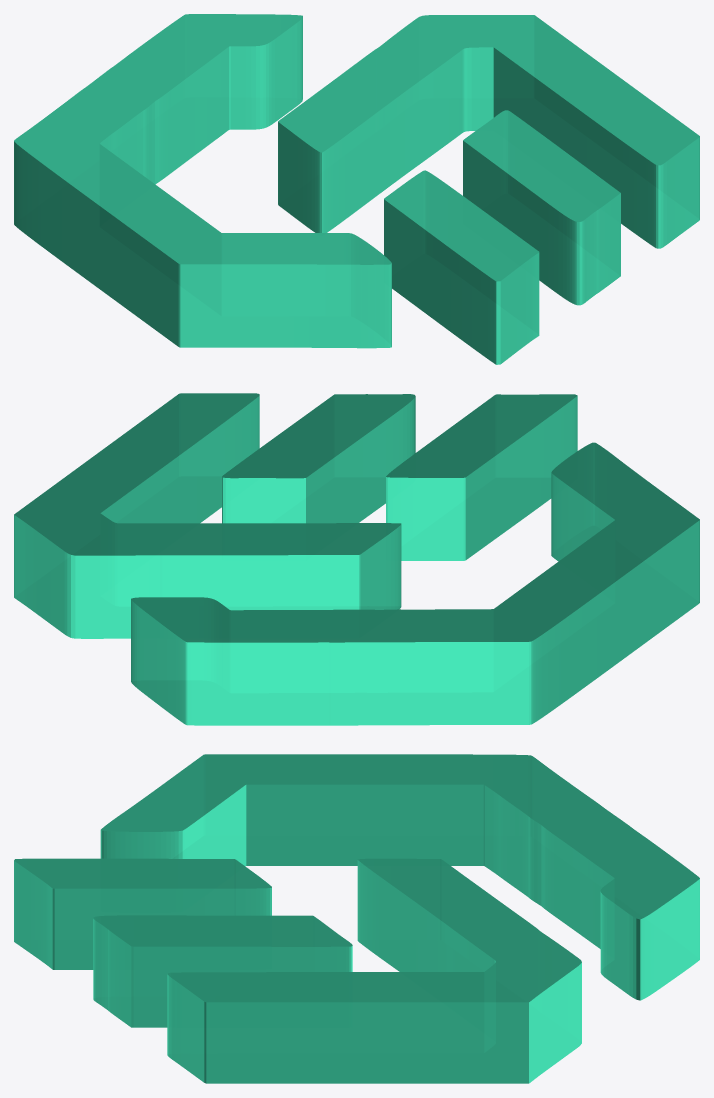
Rendered from optrizo-3d-model.glb.
3 views of the same model, one above another, from view 1: azimuth 30°, elevation 25°; view 2: azimuth 150°, elevation 25°; view 3: azimuth 270°, elevation 25° (orthographic). The views are drawn at different scales.
Visible parts, largest first — view 1: Node1, Node2, Node4, Node3; view 2: Node1, Node2, Node4, Node3; view 3: Node1, Node2, Node4, Node3.
Part boxes in pixels (x1,y1,x2,y2): Node1: (14,14,391,348); Node2: (278,15,699,248); Node4: (384,170,539,364); Node3: (463,110,620,305); Node1: (131,442,699,725); Node2: (14,393,401,638); Node4: (386,394,577,560); Node3: (222,394,415,523); Node1: (100,754,699,1000); Node2: (167,858,581,1083); Node4: (14,858,271,969); Node3: (93,915,352,1027).
Size of the model in its own units: 5.24 by 0.8 by 6.12.
